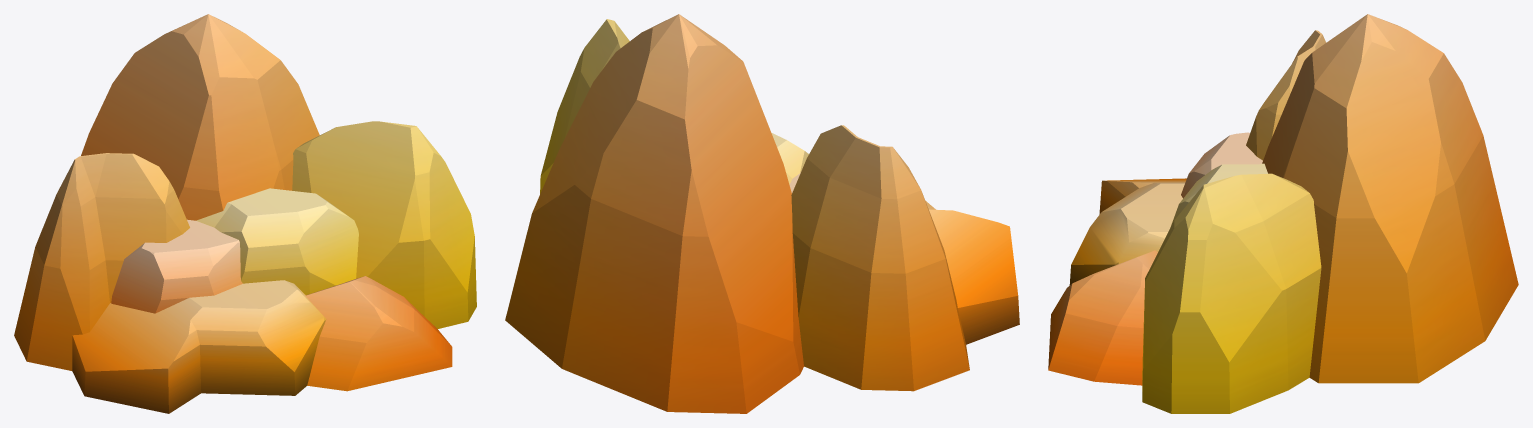
File: exhibit-rock-cluster-1.FBX
The picture shows the model from 3 angles, left to right: view 1: azimuth 30°, elevation 25°; view 2: azimuth 150°, elevation 25°; view 3: azimuth 270°, elevation 25°; orthographic projection. The views are drawn at different scales.
Parts seen in each view (by area): view 1: rock008; view 2: rock008; view 3: rock008.
Part boxes in pixels (bbox=[...]): rock008: bbox=[14, 14, 476, 413]; rock008: bbox=[505, 14, 1019, 413]; rock008: bbox=[1048, 14, 1518, 413].
Bounding box in the file's own units: 2.28 × 2.12 × 1.5.
1 material, 1 textured.
